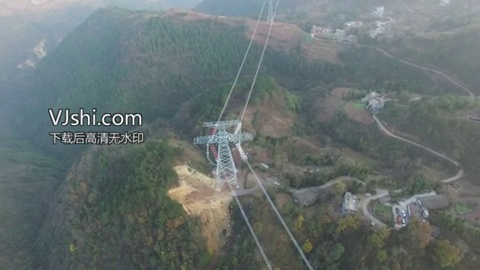tower_body: (192, 115, 249, 189)
tower_foot: (212, 160, 238, 187)
tower_head: (201, 118, 242, 133)
